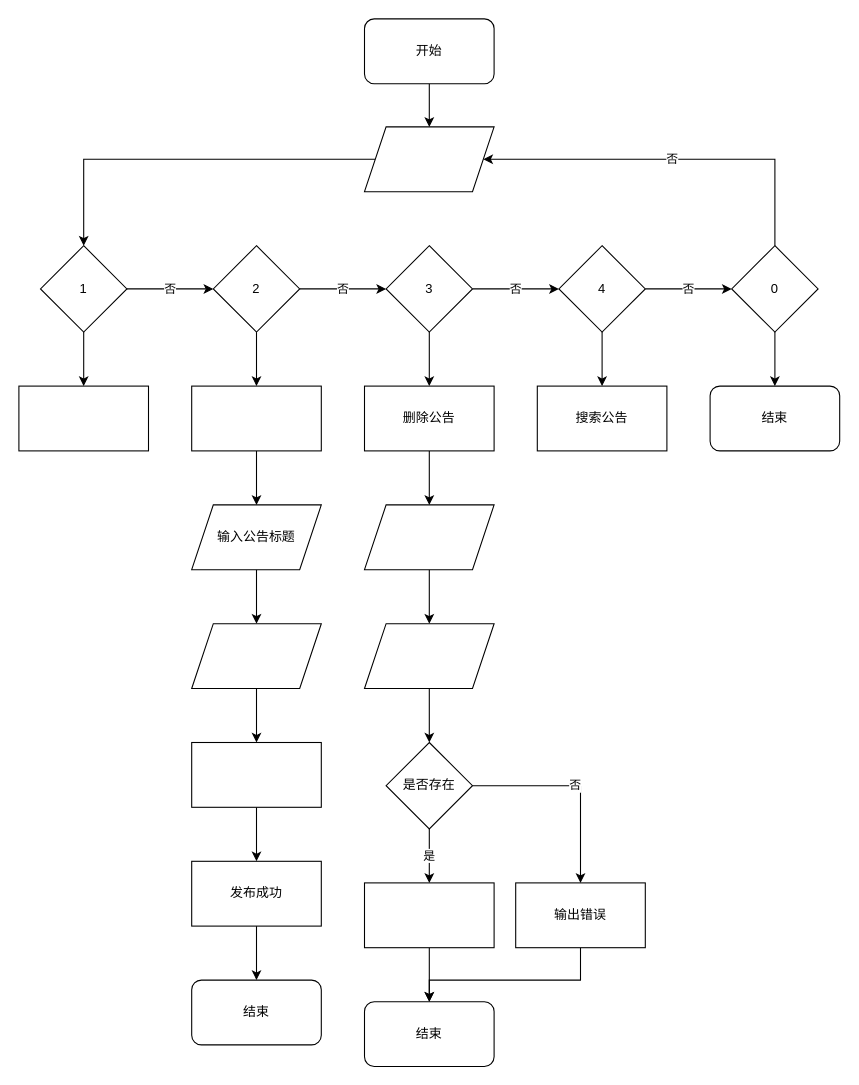
Image size: 859x1085. Some labels were removed from this diagram. The shapes that lost their labels are listed below. From the top down, each one's box as (x1, y1, x2, y2) in pixels, then its label:
(363, 126, 494, 192): 选择功能
(18, 385, 148, 451): 查看公告
(191, 385, 321, 451): 发布公告
(363, 504, 494, 570): 输出当前的公告
(191, 623, 321, 688): 输入公告内容
(363, 623, 494, 688): 输入公告编号
(191, 741, 321, 807): 生成公告发布时间
(363, 882, 494, 948): 清空节点
